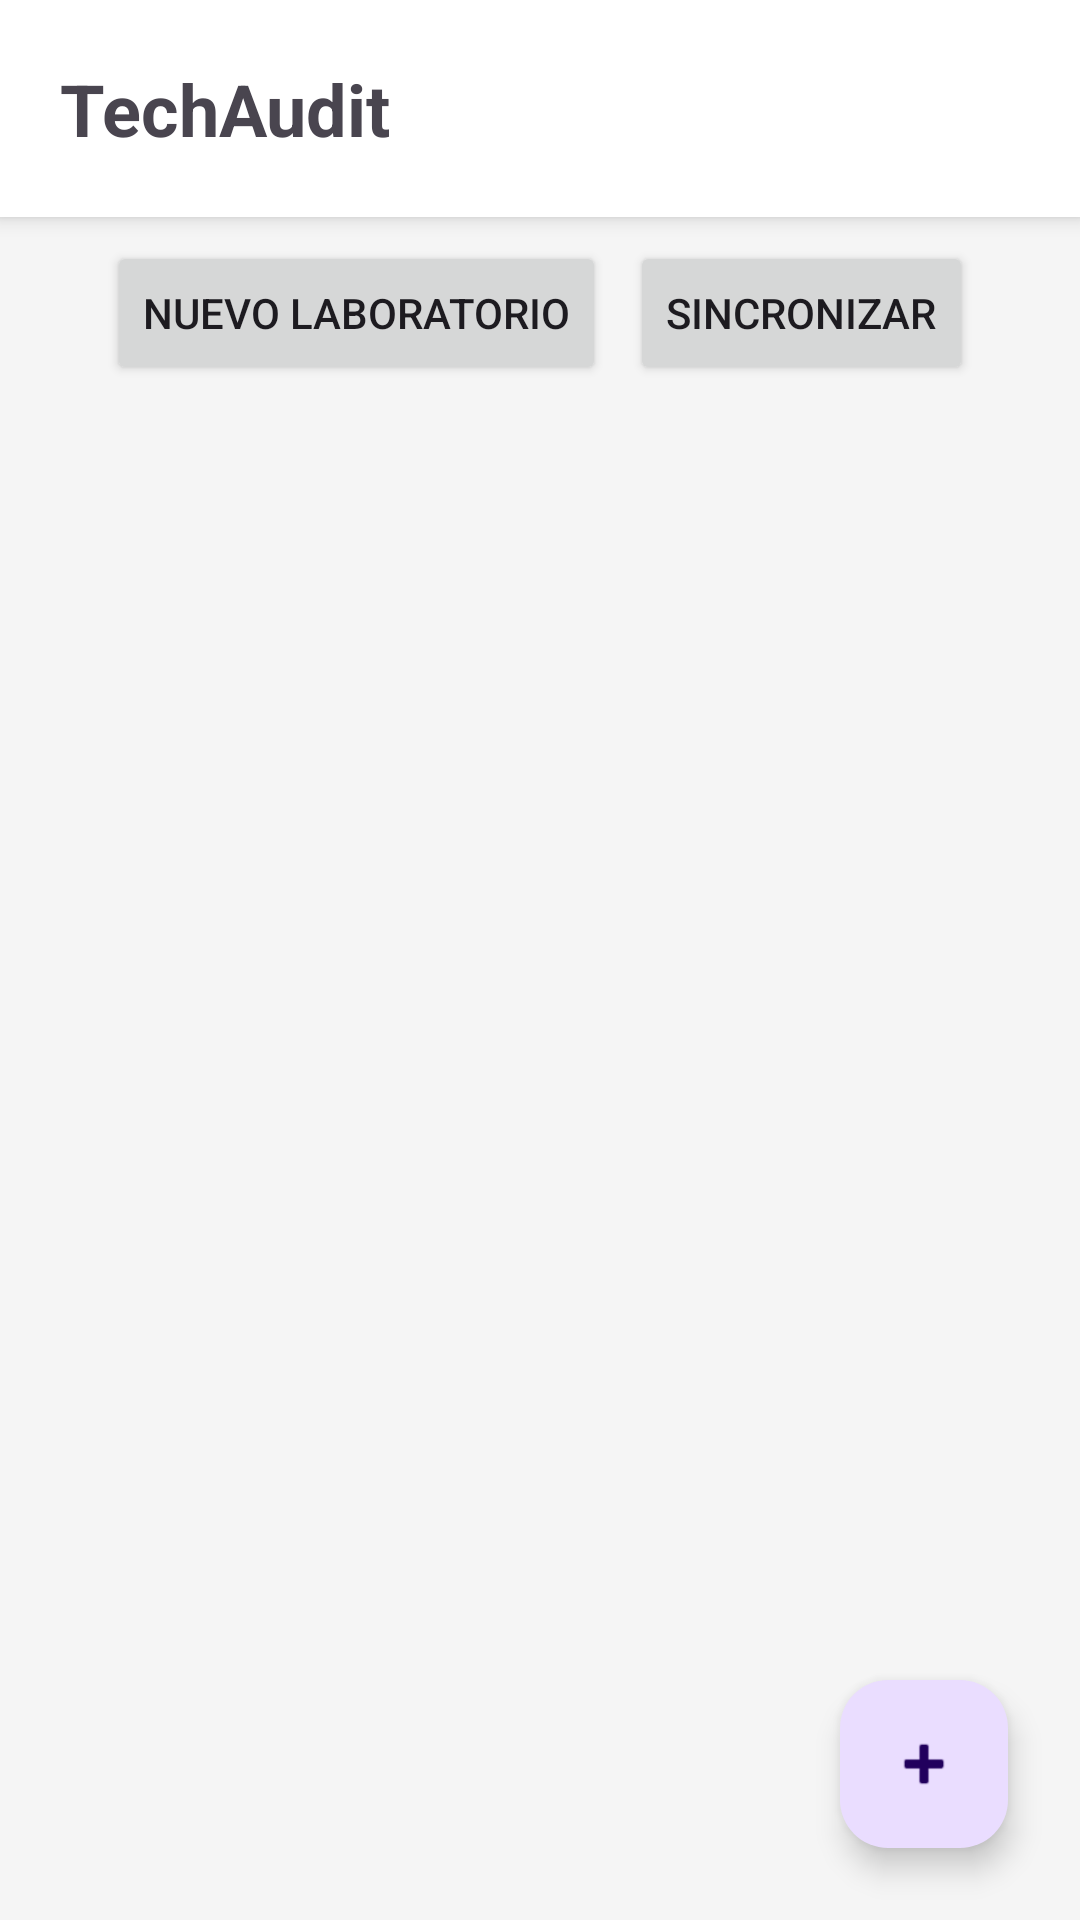

Icons on this 1080px x 1920px Android screen, each with the point to tap as (x=x, y=y):
Agregar Equipo: (x=924, y=1764)
